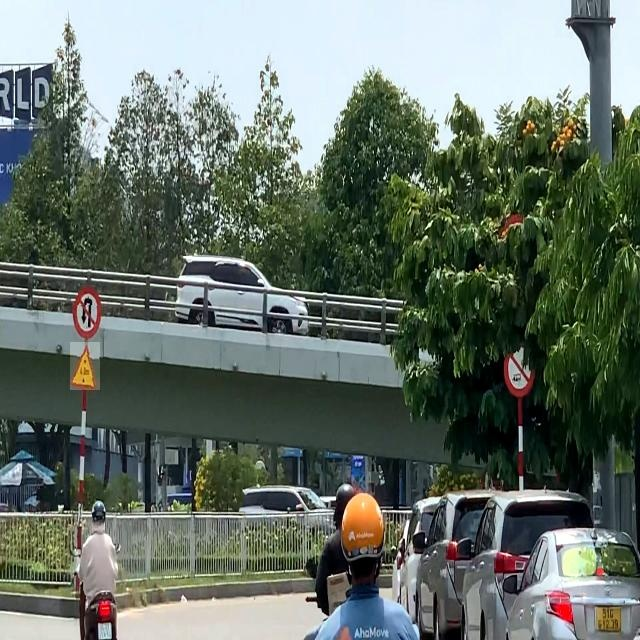bien_cam: (72, 288, 103, 338), (70, 342, 100, 390)
